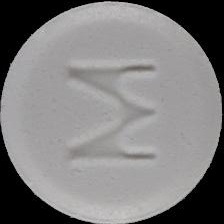0615-5647: (0, 0, 224, 224)
